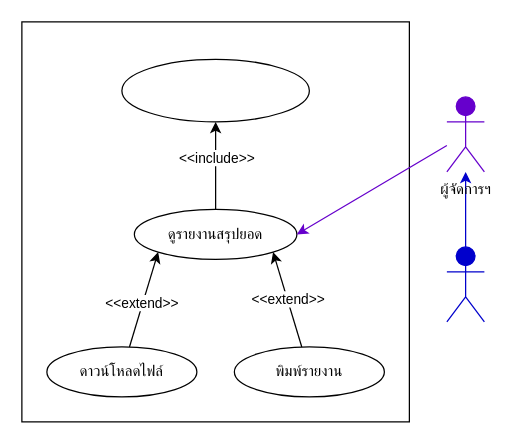
The diagram is 526 pixels wide and 444 high, and some of its shapes have lost their labels. The shapes that lost their labels are listed below. From the top down, each one's centre as x and y in pixels, then its label:
At (x=215, y=90): "เลือกประเภทและช่วงเวลา".
At (x=465, y=284): "เจ้าของบริษัทฯ".
